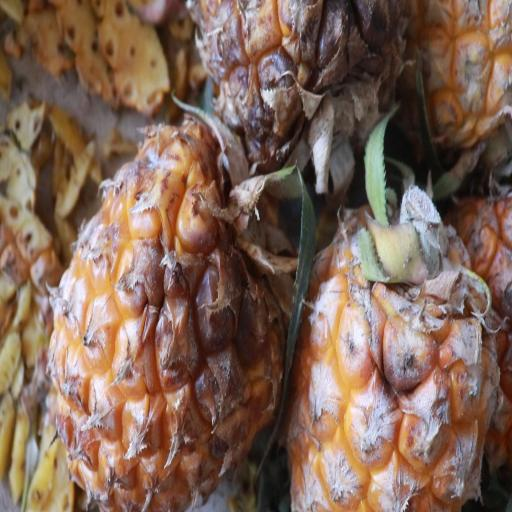Pineapple - v8 v1: (49, 102, 292, 512), (290, 181, 512, 512)
